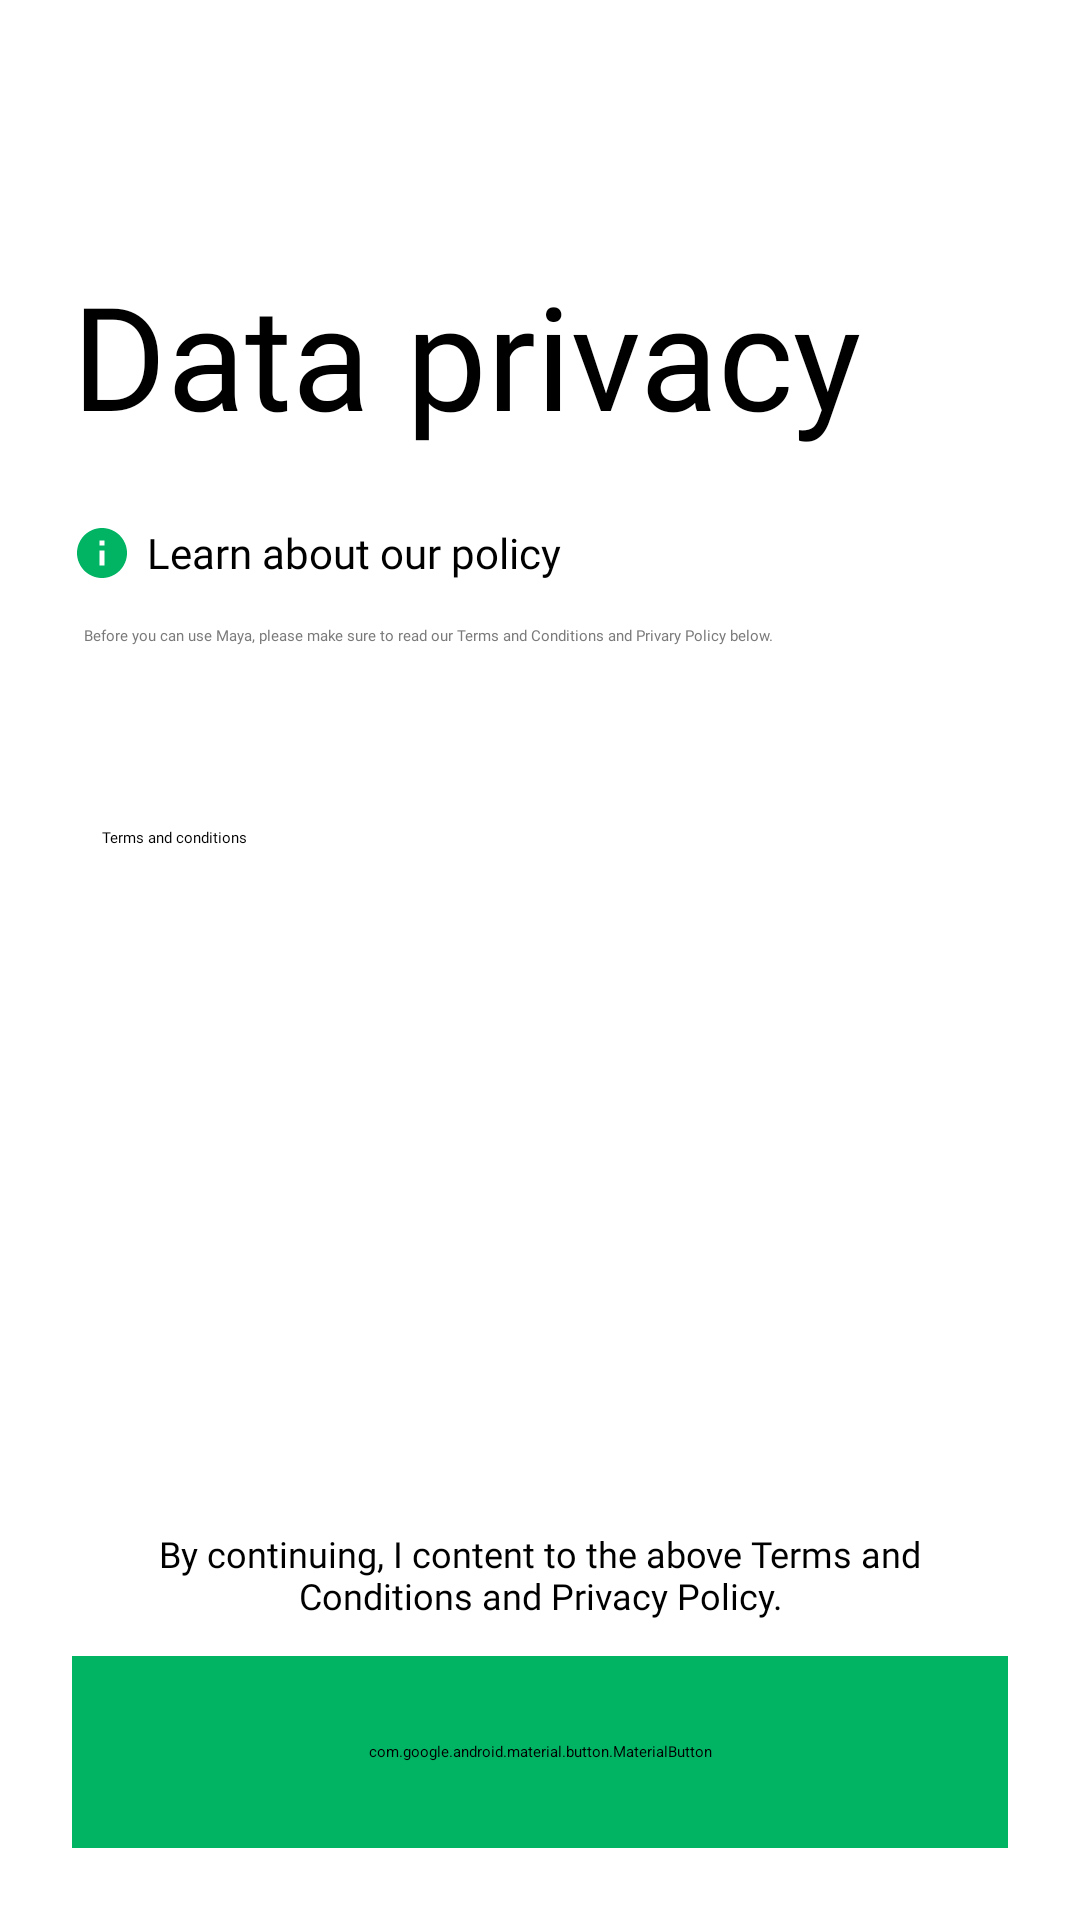

Point at icon controls on the screen. Image size 1080 x 1920, points as point (x, y).
info: point (102, 553)
